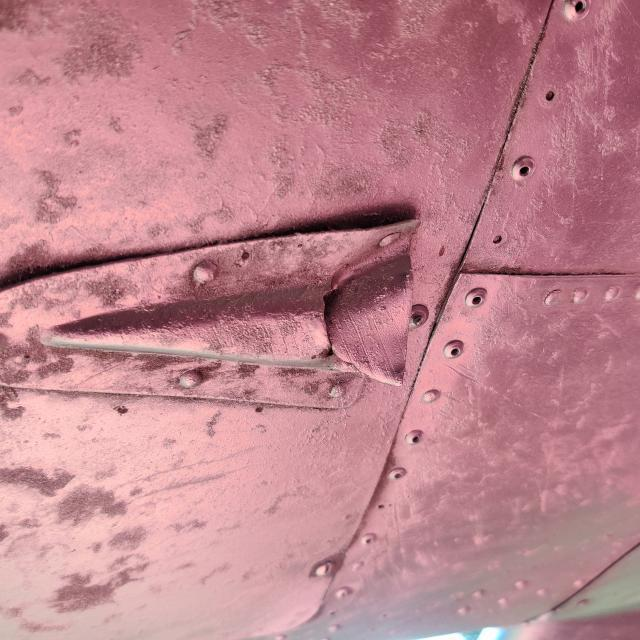Crack: (324, 271, 365, 370)
